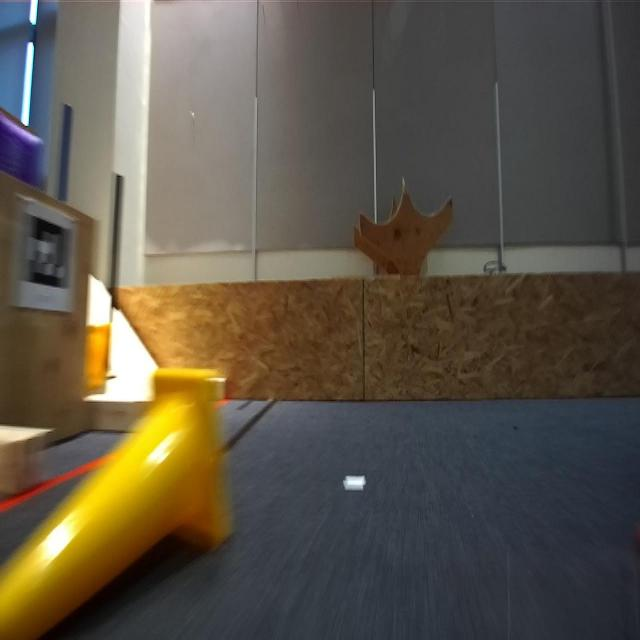frc_cone: (0, 365, 222, 640), (84, 323, 108, 393)
frc_cube: (0, 100, 43, 182)
